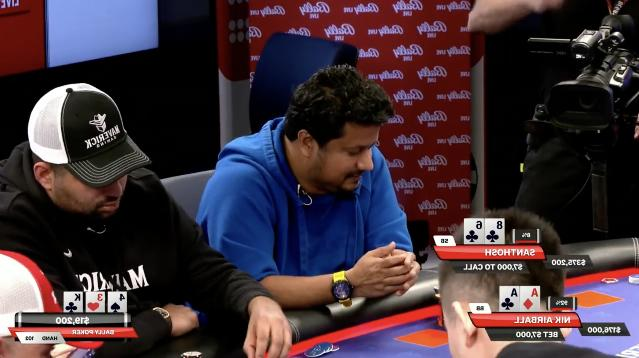3H: (86, 292, 104, 313)
4S: (107, 292, 126, 312)
6C: (465, 218, 484, 246)
8C: (484, 218, 504, 243)
AC: (499, 287, 519, 311)
AD: (520, 286, 540, 312)
KC: (63, 292, 81, 313)
